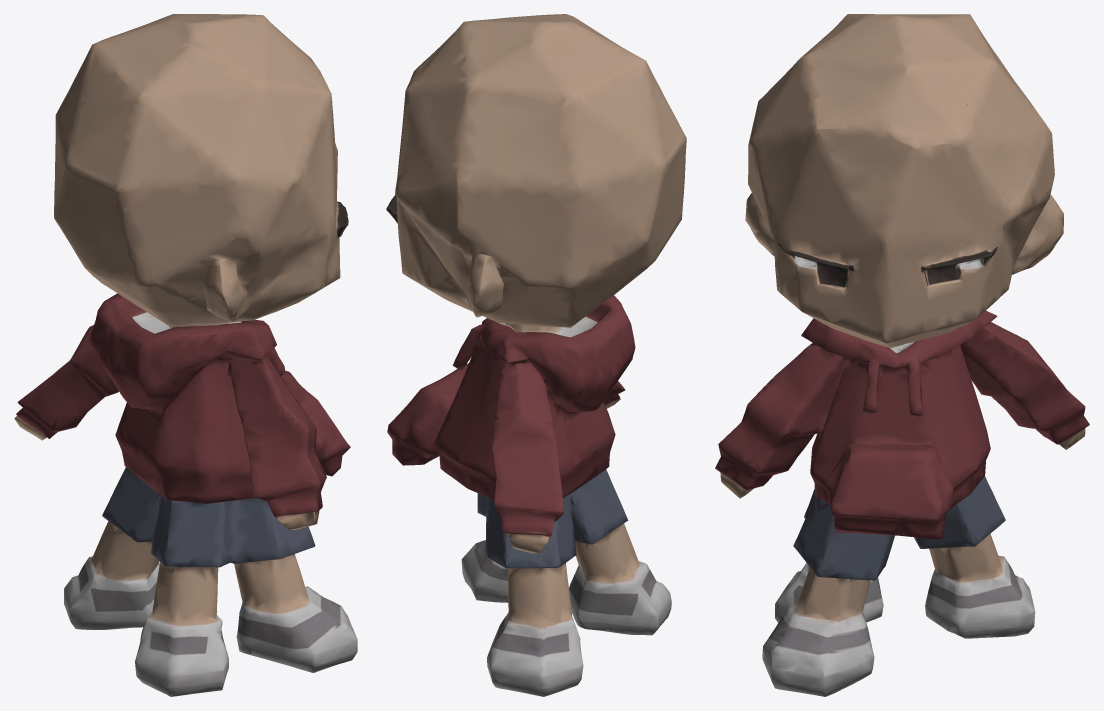
The model's file is _segmented_3view.glb.
3 views of the same model, side by side, from view 1: azimuth 30°, elevation 25°; view 2: azimuth 150°, elevation 25°; view 3: azimuth 270°, elevation 25° (orthographic).
Parts seen in each view (by area): view 1: tripo_part_0, tripo_part_2, tripo_part_1, tripo_part_3; view 2: tripo_part_0, tripo_part_2, tripo_part_1, tripo_part_3; view 3: tripo_part_0, tripo_part_1, tripo_part_2, tripo_part_3.
Part boxes in pixels (x1=…): tripo_part_0: x1=54, y1=14, x2=348, y2=327; tripo_part_2: x1=64, y1=467, x2=357, y2=696; tripo_part_1: x1=89, y1=293, x2=350, y2=503; tripo_part_3: x1=14, y1=325, x2=326, y2=529; tripo_part_0: x1=386, y1=14, x2=686, y2=333; tripo_part_2: x1=461, y1=470, x2=671, y2=696; tripo_part_1: x1=387, y1=295, x2=635, y2=500; tripo_part_3: x1=491, y1=361, x2=625, y2=553; tripo_part_0: x1=745, y1=14, x2=1063, y2=349; tripo_part_1: x1=801, y1=310, x2=996, y2=539; tripo_part_2: x1=762, y1=476, x2=1035, y2=696; tripo_part_3: x1=715, y1=322, x2=1089, y2=498.
Bounding box in the file's own units: 0.4453 × 1 × 0.5414.
Materials: 4 (4 with a texture image).
